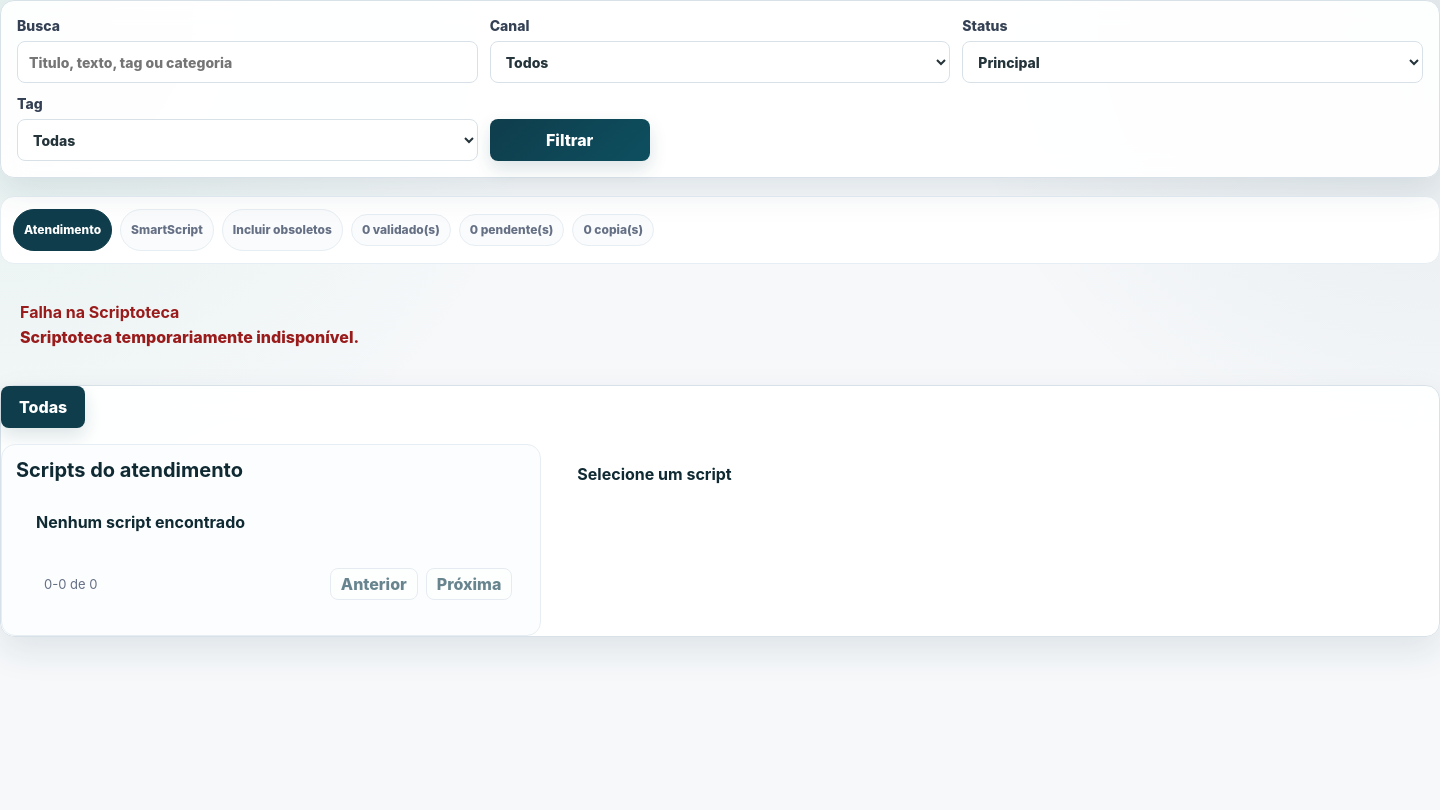
Test case: ScriptLibraryView › shows the HTTP error and retries the listing from the filter action
The image size is (1440, 810).
Expected: the message "Falha na Scriptoteca Scriptoteca temporariamente indisponível." is shown, [20,302,359,347]
Click the button "Filtrar" at {"x": 570, "y": 140}, box [490,119,650,161]
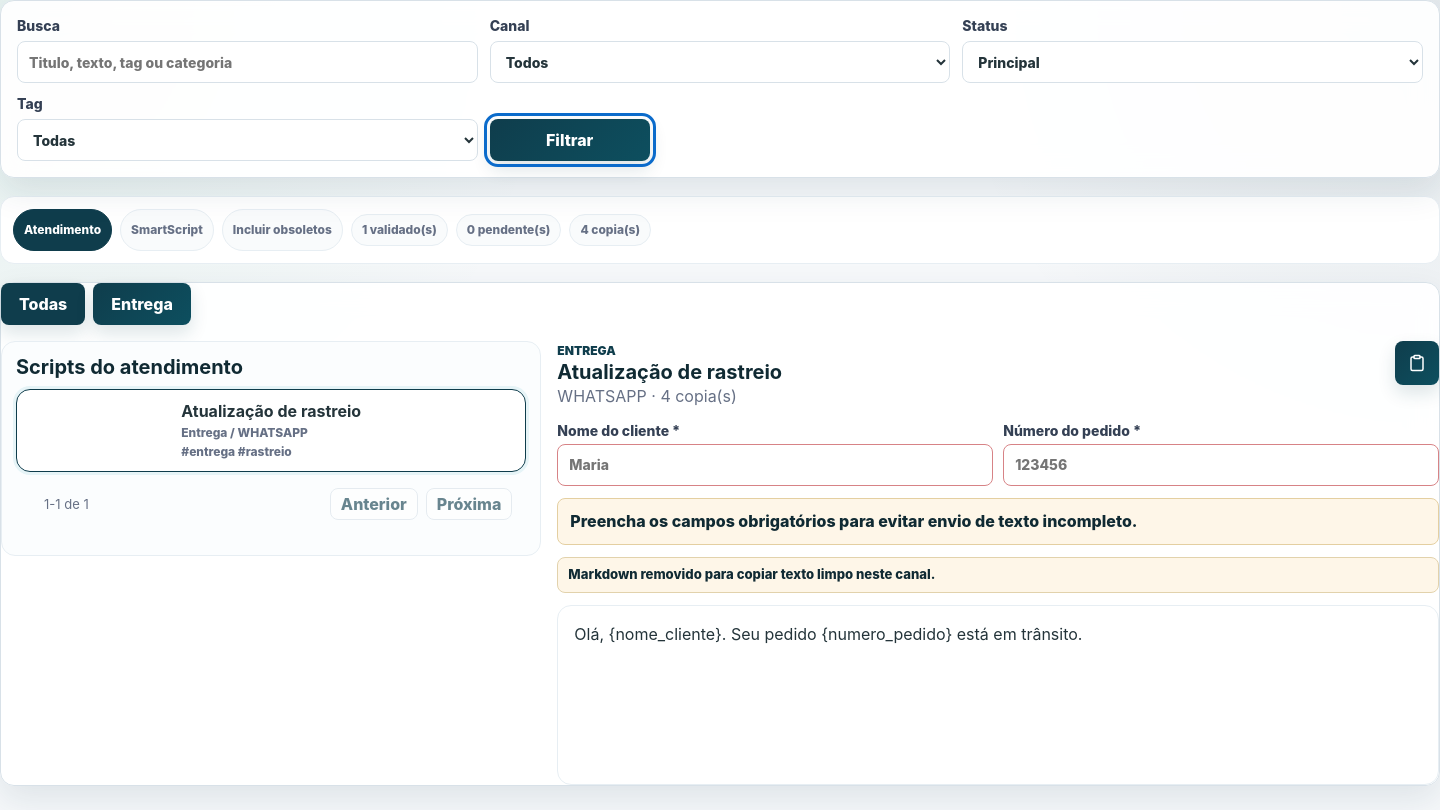
Expected: the heading "Atualização de rastreio" is shown, [557,360,782,384]
Expected: the message "Falha na Scriptoteca Scriptoteca temporariamente indisponível." is gone
